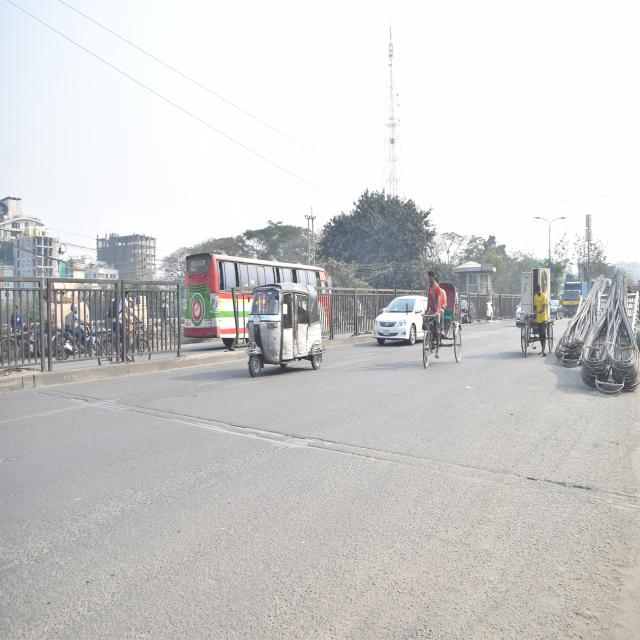bus: (182, 242, 334, 343)
car: (373, 289, 427, 350), (551, 293, 563, 327)
pickup-van: (558, 272, 584, 323)
